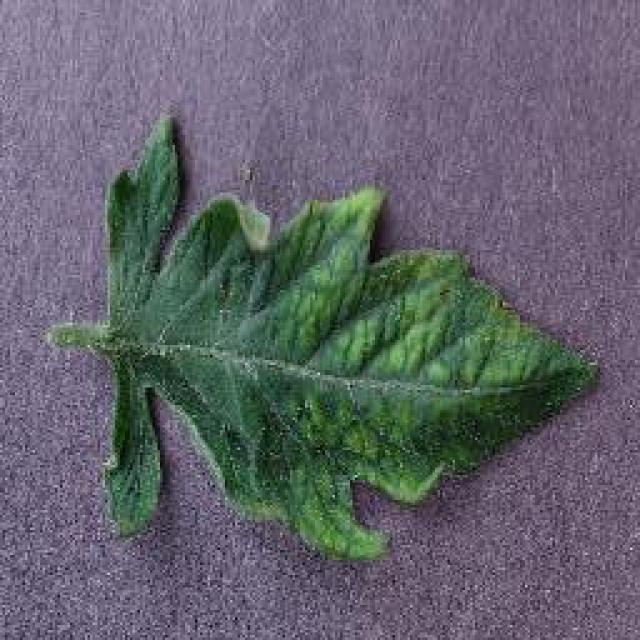Tomato spider mites leaf: (91, 112, 601, 552)
